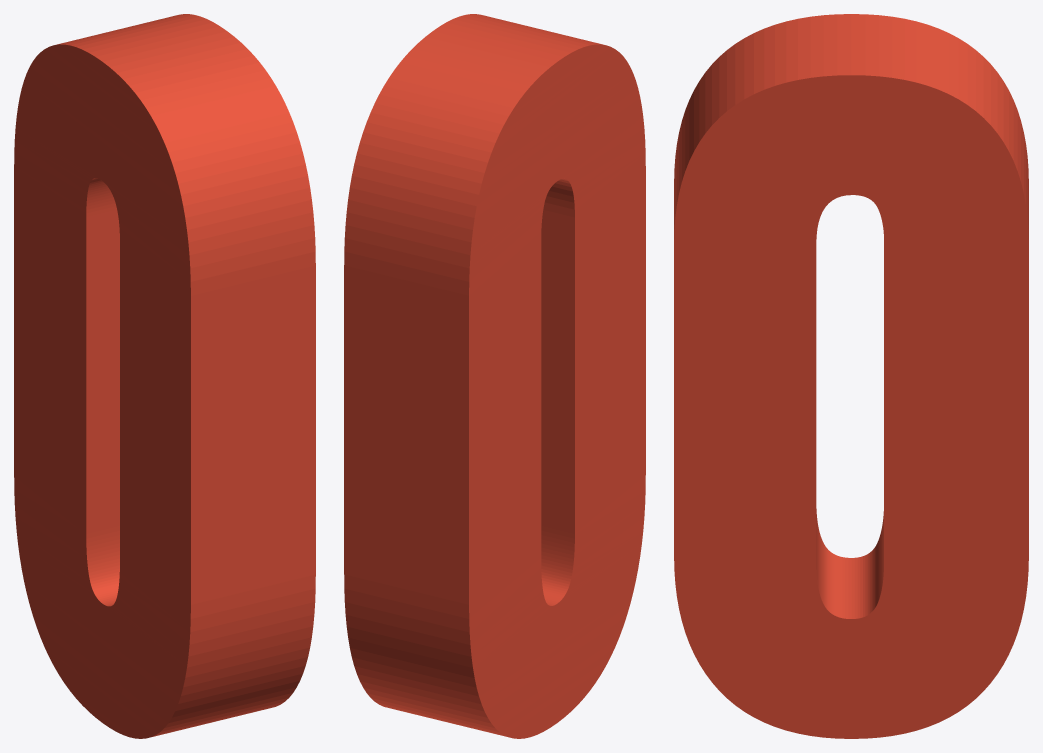
3 renders of one model, left to right at view 1: azimuth 30°, elevation 25°; view 2: azimuth 150°, elevation 25°; view 3: azimuth 270°, elevation 25°, orthographic.
Visible parts, largest first — view 1: Text; view 2: Text; view 3: Text.
Part boxes in pixels (x1,y1,x2,y2): Text: [14, 14, 315, 738]; Text: [344, 14, 645, 738]; Text: [674, 14, 1028, 738].
Bounding box in the file's own units: 0.1 × 0.5058 × 0.2451.
